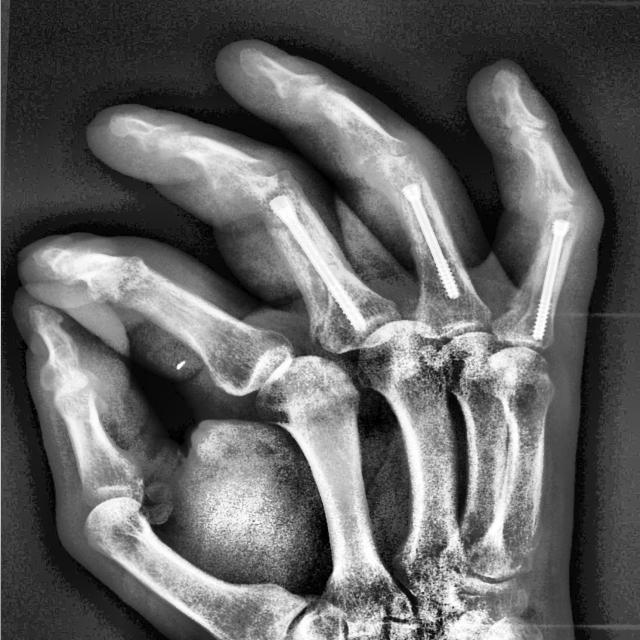fracture: (273, 192, 369, 336), (401, 180, 462, 302), (528, 215, 572, 342)
